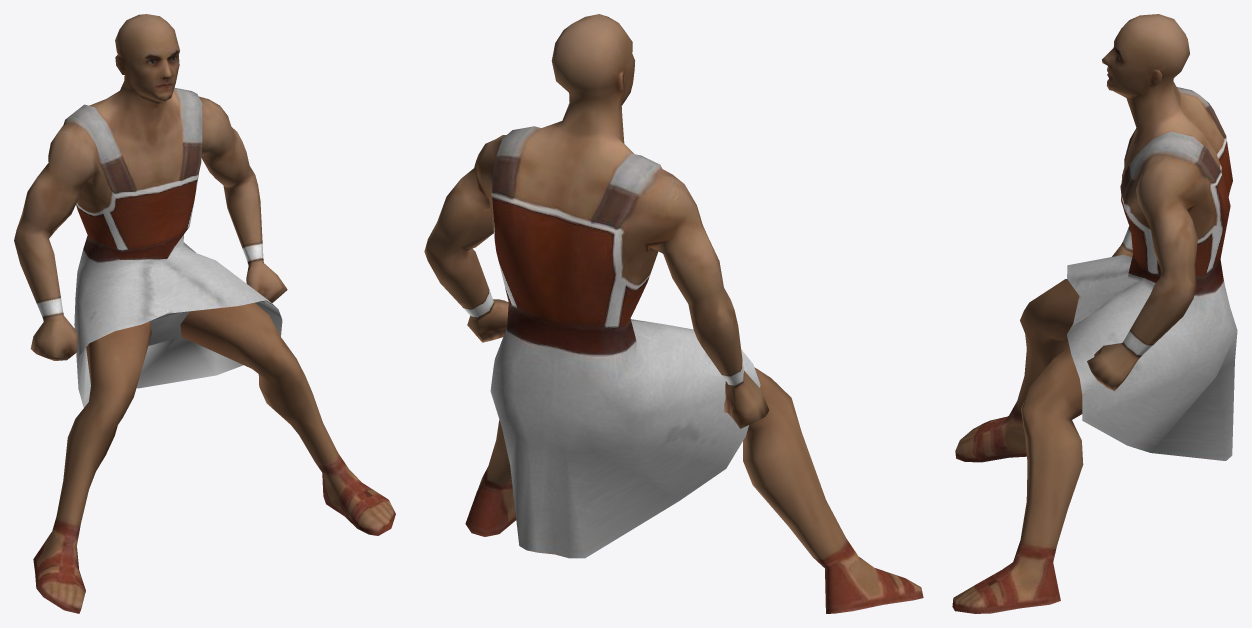
Rendered from rider-slice-base.glb.
The picture shows the model from 3 angles, left to right: view 1: azimuth 30°, elevation 25°; view 2: azimuth 150°, elevation 25°; view 3: azimuth 270°, elevation 25°; orthographic projection. The views are drawn at different scales.
Bounding box in the file's own units: 1.31 × 1.75 × 0.8585.
1 material, 1 textured.
